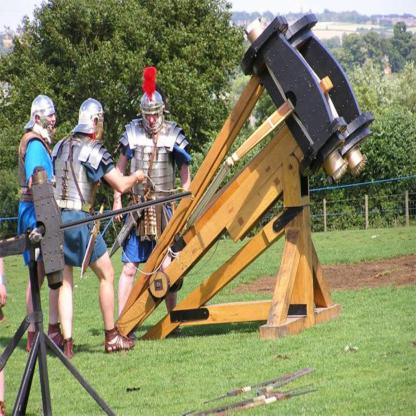face: (145, 109, 161, 132), (41, 109, 57, 131), (94, 117, 104, 141)
